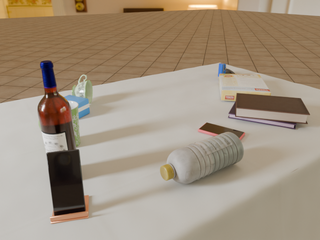book: (235, 93, 310, 124), (228, 102, 296, 129)
bottle: (160, 132, 244, 184), (37, 61, 76, 153)
box: (219, 73, 271, 101), (64, 95, 90, 118)
cup: (39, 101, 80, 147), (72, 75, 93, 104)
phone: (46, 149, 86, 216), (198, 123, 245, 140)
toy_car: (218, 63, 227, 77)
